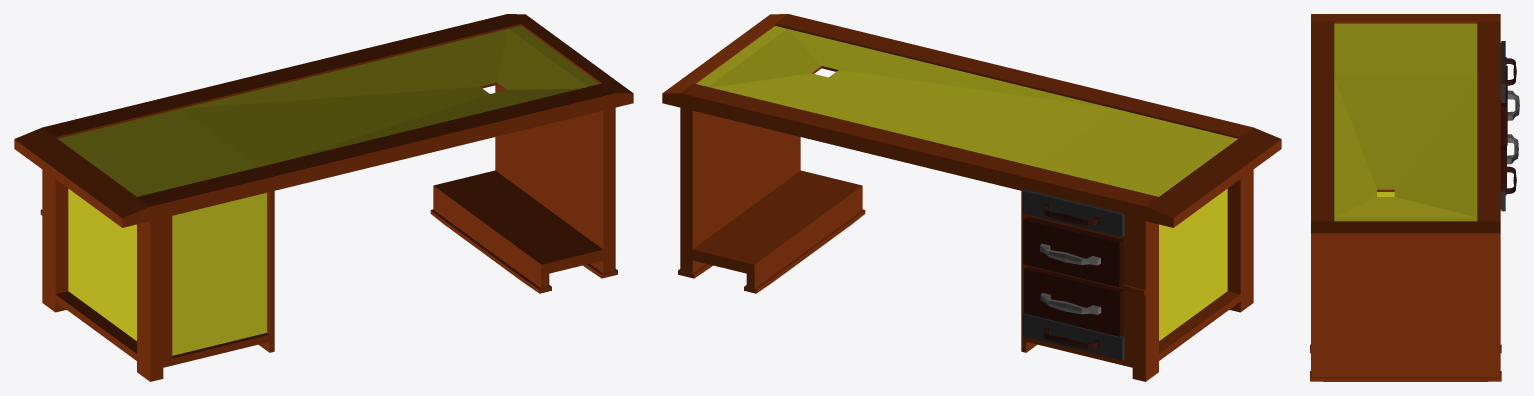
The model's file is Desk 9.fbx.
3 renders of one model, left to right at view 1: azimuth 30°, elevation 25°; view 2: azimuth 150°, elevation 25°; view 3: azimuth 270°, elevation 25°, orthographic. The views are drawn at different scales.
Visible parts, largest first — view 1: Node 0; view 2: Node 0, Node 4, Node 3, Node 2, Node 1; view 3: Node 0, Node 4, Node 2, Node 3, Node 1.
Boxes of the visible parts, x1,y1,x2,y2 form: Node 0: (14,14,633,381); Node 0: (662,14,1281,381); Node 4: (1023,216,1123,287); Node 3: (1024,266,1123,336); Node 2: (1022,189,1124,237); Node 1: (1022,313,1124,360); Node 0: (1310,14,1501,381); Node 4: (1500,65,1519,145); Node 2: (1500,41,1516,102); Node 3: (1500,134,1518,189); Node 1: (1500,166,1516,211).
Size of the model in its own units: 1.13 by 0.948 by 2.79.
